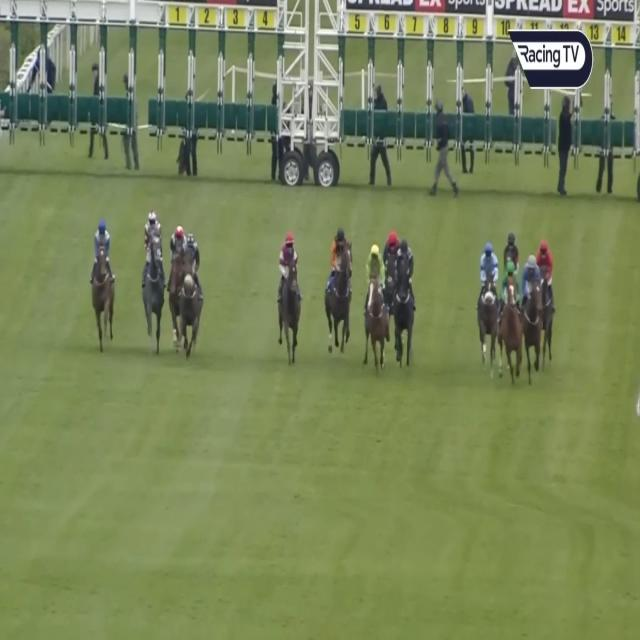horses-racing: (89, 219, 120, 352), (174, 229, 210, 342), (273, 236, 305, 354), (327, 219, 353, 349), (139, 214, 165, 339), (501, 257, 525, 381), (393, 237, 417, 353), (474, 246, 498, 351), (535, 238, 559, 340), (363, 241, 384, 355), (524, 254, 542, 366), (380, 226, 403, 301), (168, 220, 190, 297), (500, 230, 523, 272)
